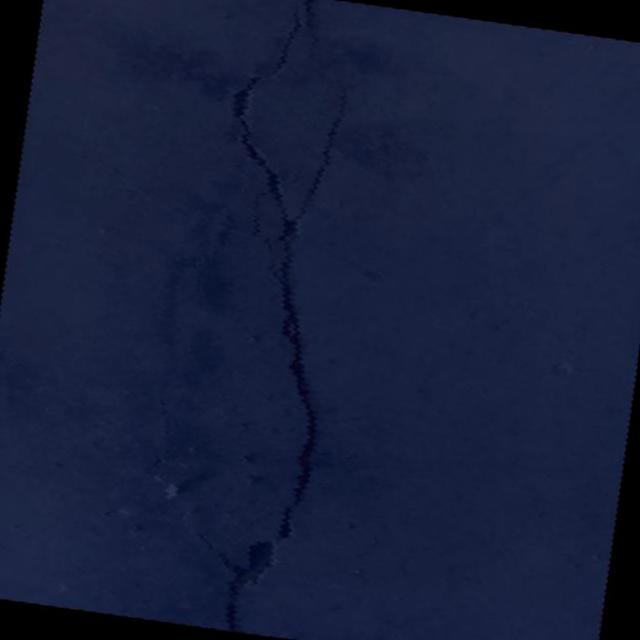crack: (171, 0, 376, 546), (162, 495, 275, 558), (207, 534, 276, 636), (292, 0, 322, 54), (150, 452, 172, 486), (308, 54, 324, 77)
